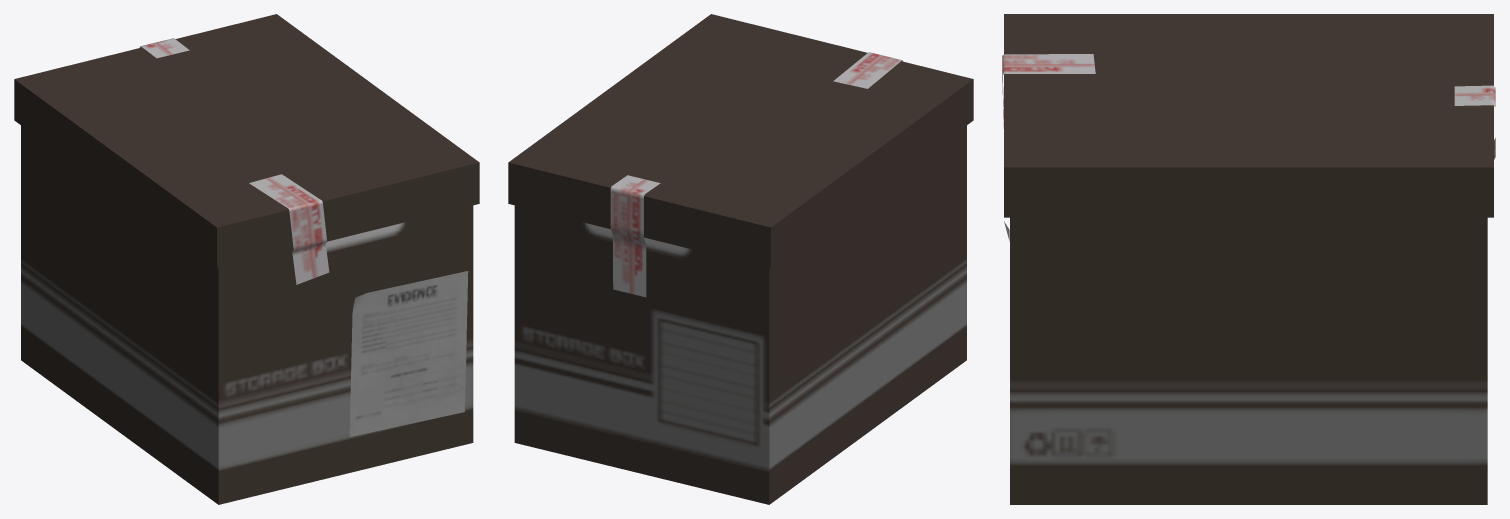
Rendered from FBX_BoxPortableF.fbx.
The picture shows the model from 3 angles, left to right: view 1: azimuth 30°, elevation 25°; view 2: azimuth 150°, elevation 25°; view 3: azimuth 270°, elevation 25°; orthographic projection. The views are drawn at different scales.
Parts seen in each view (by area): view 1: SM_BoxPortableF; view 2: SM_BoxPortableF; view 3: SM_BoxPortableF.
Boxes of the visible parts, x1=… form: SM_BoxPortableF: x1=14, y1=14, x2=479, y2=504; SM_BoxPortableF: x1=508, y1=14, x2=973, y2=504; SM_BoxPortableF: x1=1002, y1=14, x2=1495, y2=504.
Size of the model in its own units: 0.2992 by 0.3074 by 0.4029.
